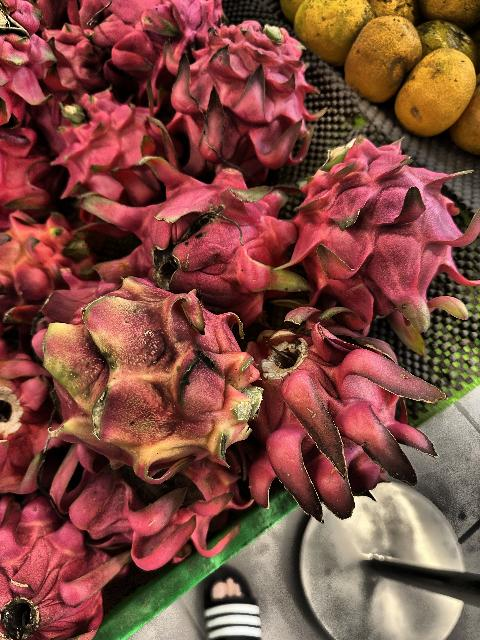buah-naga-belum-matang: (36, 278, 260, 456)
buah-naga-matang: (242, 310, 440, 512), (292, 136, 480, 332), (96, 158, 294, 310), (49, 442, 242, 568), (175, 10, 315, 170), (0, 492, 126, 640), (57, 90, 166, 194), (0, 327, 64, 503), (1, 219, 96, 317), (96, 1, 236, 64), (0, 0, 54, 106), (1, 124, 56, 220), (39, 21, 111, 91)
